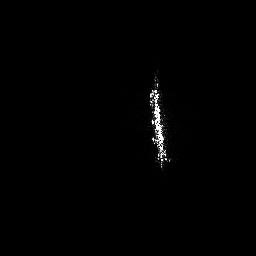ship: (148, 72, 173, 172)
